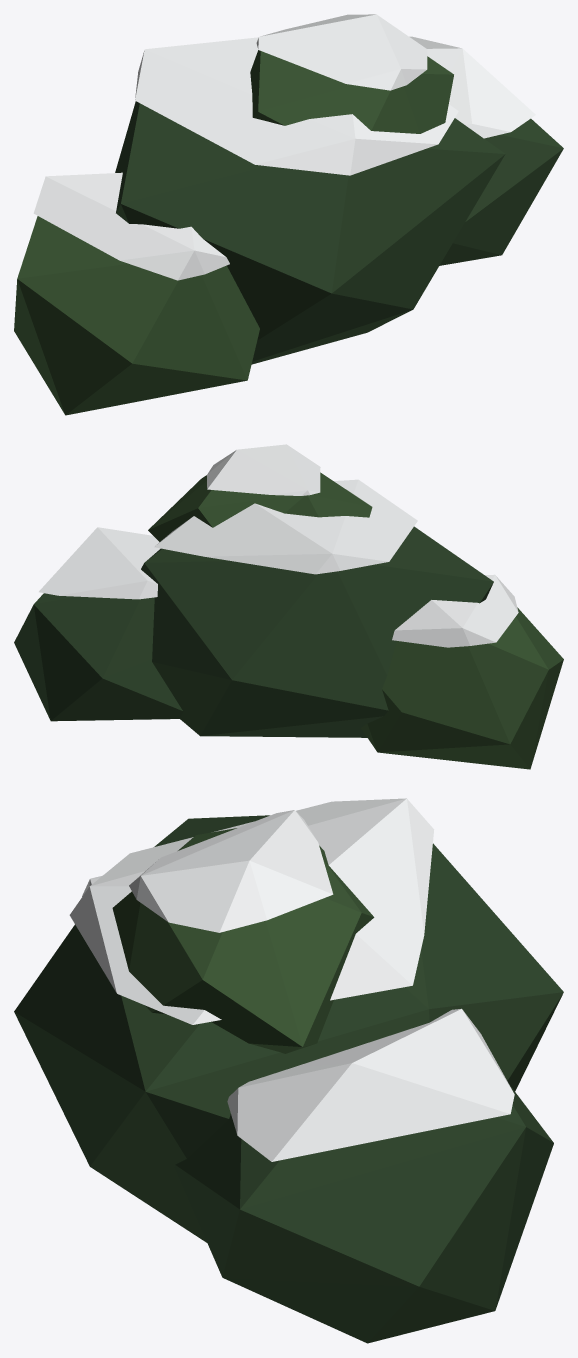
Rendered from Snow_Bush.fbx.
3 renders of one model, top to bottom at view 1: azimuth 30°, elevation 25°; view 2: azimuth 150°, elevation 25°; view 3: azimuth 270°, elevation 25°, orthographic. The views are drawn at different scales.
Parts seen in each view (by area): view 1: Leaves, Leaves2, Snow; view 2: Leaves, Snow, Leaves2; view 3: Leaves, Snow, Leaves2.
Boxes of the visible parts, left/top/right/bottom form: Leaves: left=115, top=101, right=563, bottom=364; Leaves2: left=14, top=50, right=453, bottom=415; Snow: left=33, top=14, right=535, bottom=280; Leaves: left=14, top=526, right=493, bottom=737; Snow: left=39, top=444, right=518, bottom=647; Leaves2: left=148, top=472, right=563, bottom=769; Leaves: left=14, top=815, right=563, bottom=1343; Snow: left=69, top=798, right=514, bottom=1161; Leaves2: left=112, top=828, right=374, bottom=1053.
Bounding box in the file's own units: 3.31 × 1.8 × 2.14.
